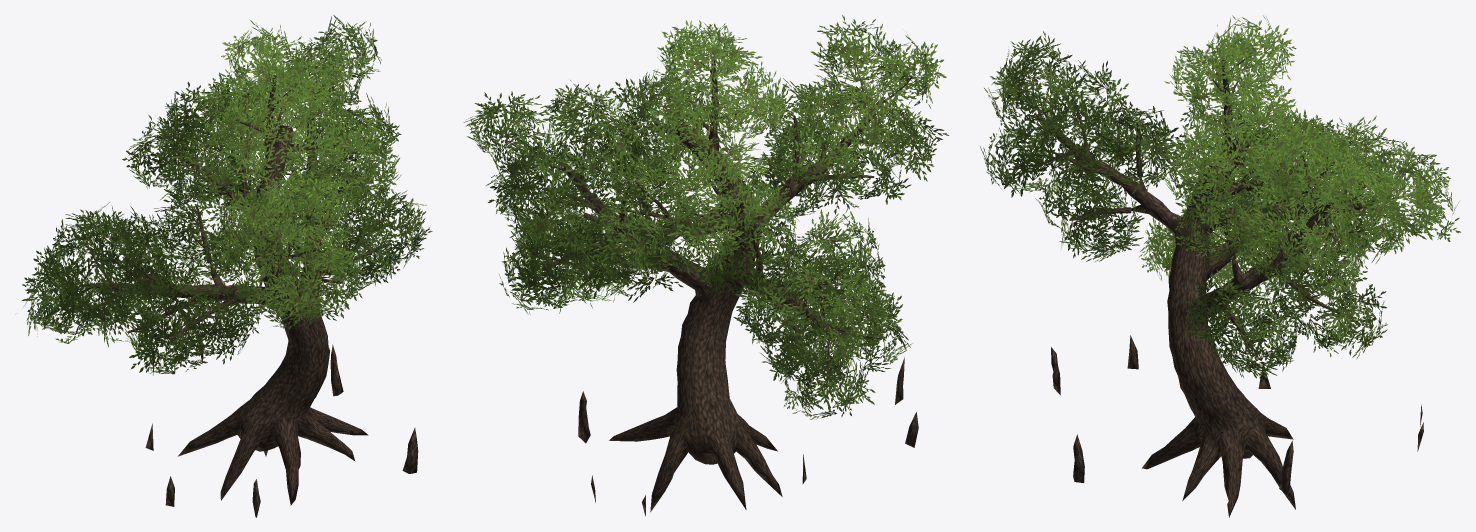
Rendered from Oak_07.glb.
3 views of the same model, side by side, from view 1: azimuth 30°, elevation 25°; view 2: azimuth 150°, elevation 25°; view 3: azimuth 270°, elevation 25° (orthographic). The views are drawn at different scales.
Parts seen in each view (by area): view 1: Leaves, Trunk; view 2: Leaves, Trunk; view 3: Leaves, Trunk.
Boxes of the visible parts, bbox=[...] form: Leaves: bbox=[15, 15, 432, 374]; Trunk: bbox=[57, 59, 418, 517]; Leaves: bbox=[463, 15, 948, 419]; Trunk: bbox=[506, 56, 918, 516]; Leaves: bbox=[980, 15, 1460, 380]; Trunk: bbox=[1012, 56, 1423, 517].
Size of the model in its own units: 14.19 by 15.91 by 14.57.
2 materials, 2 textured.
